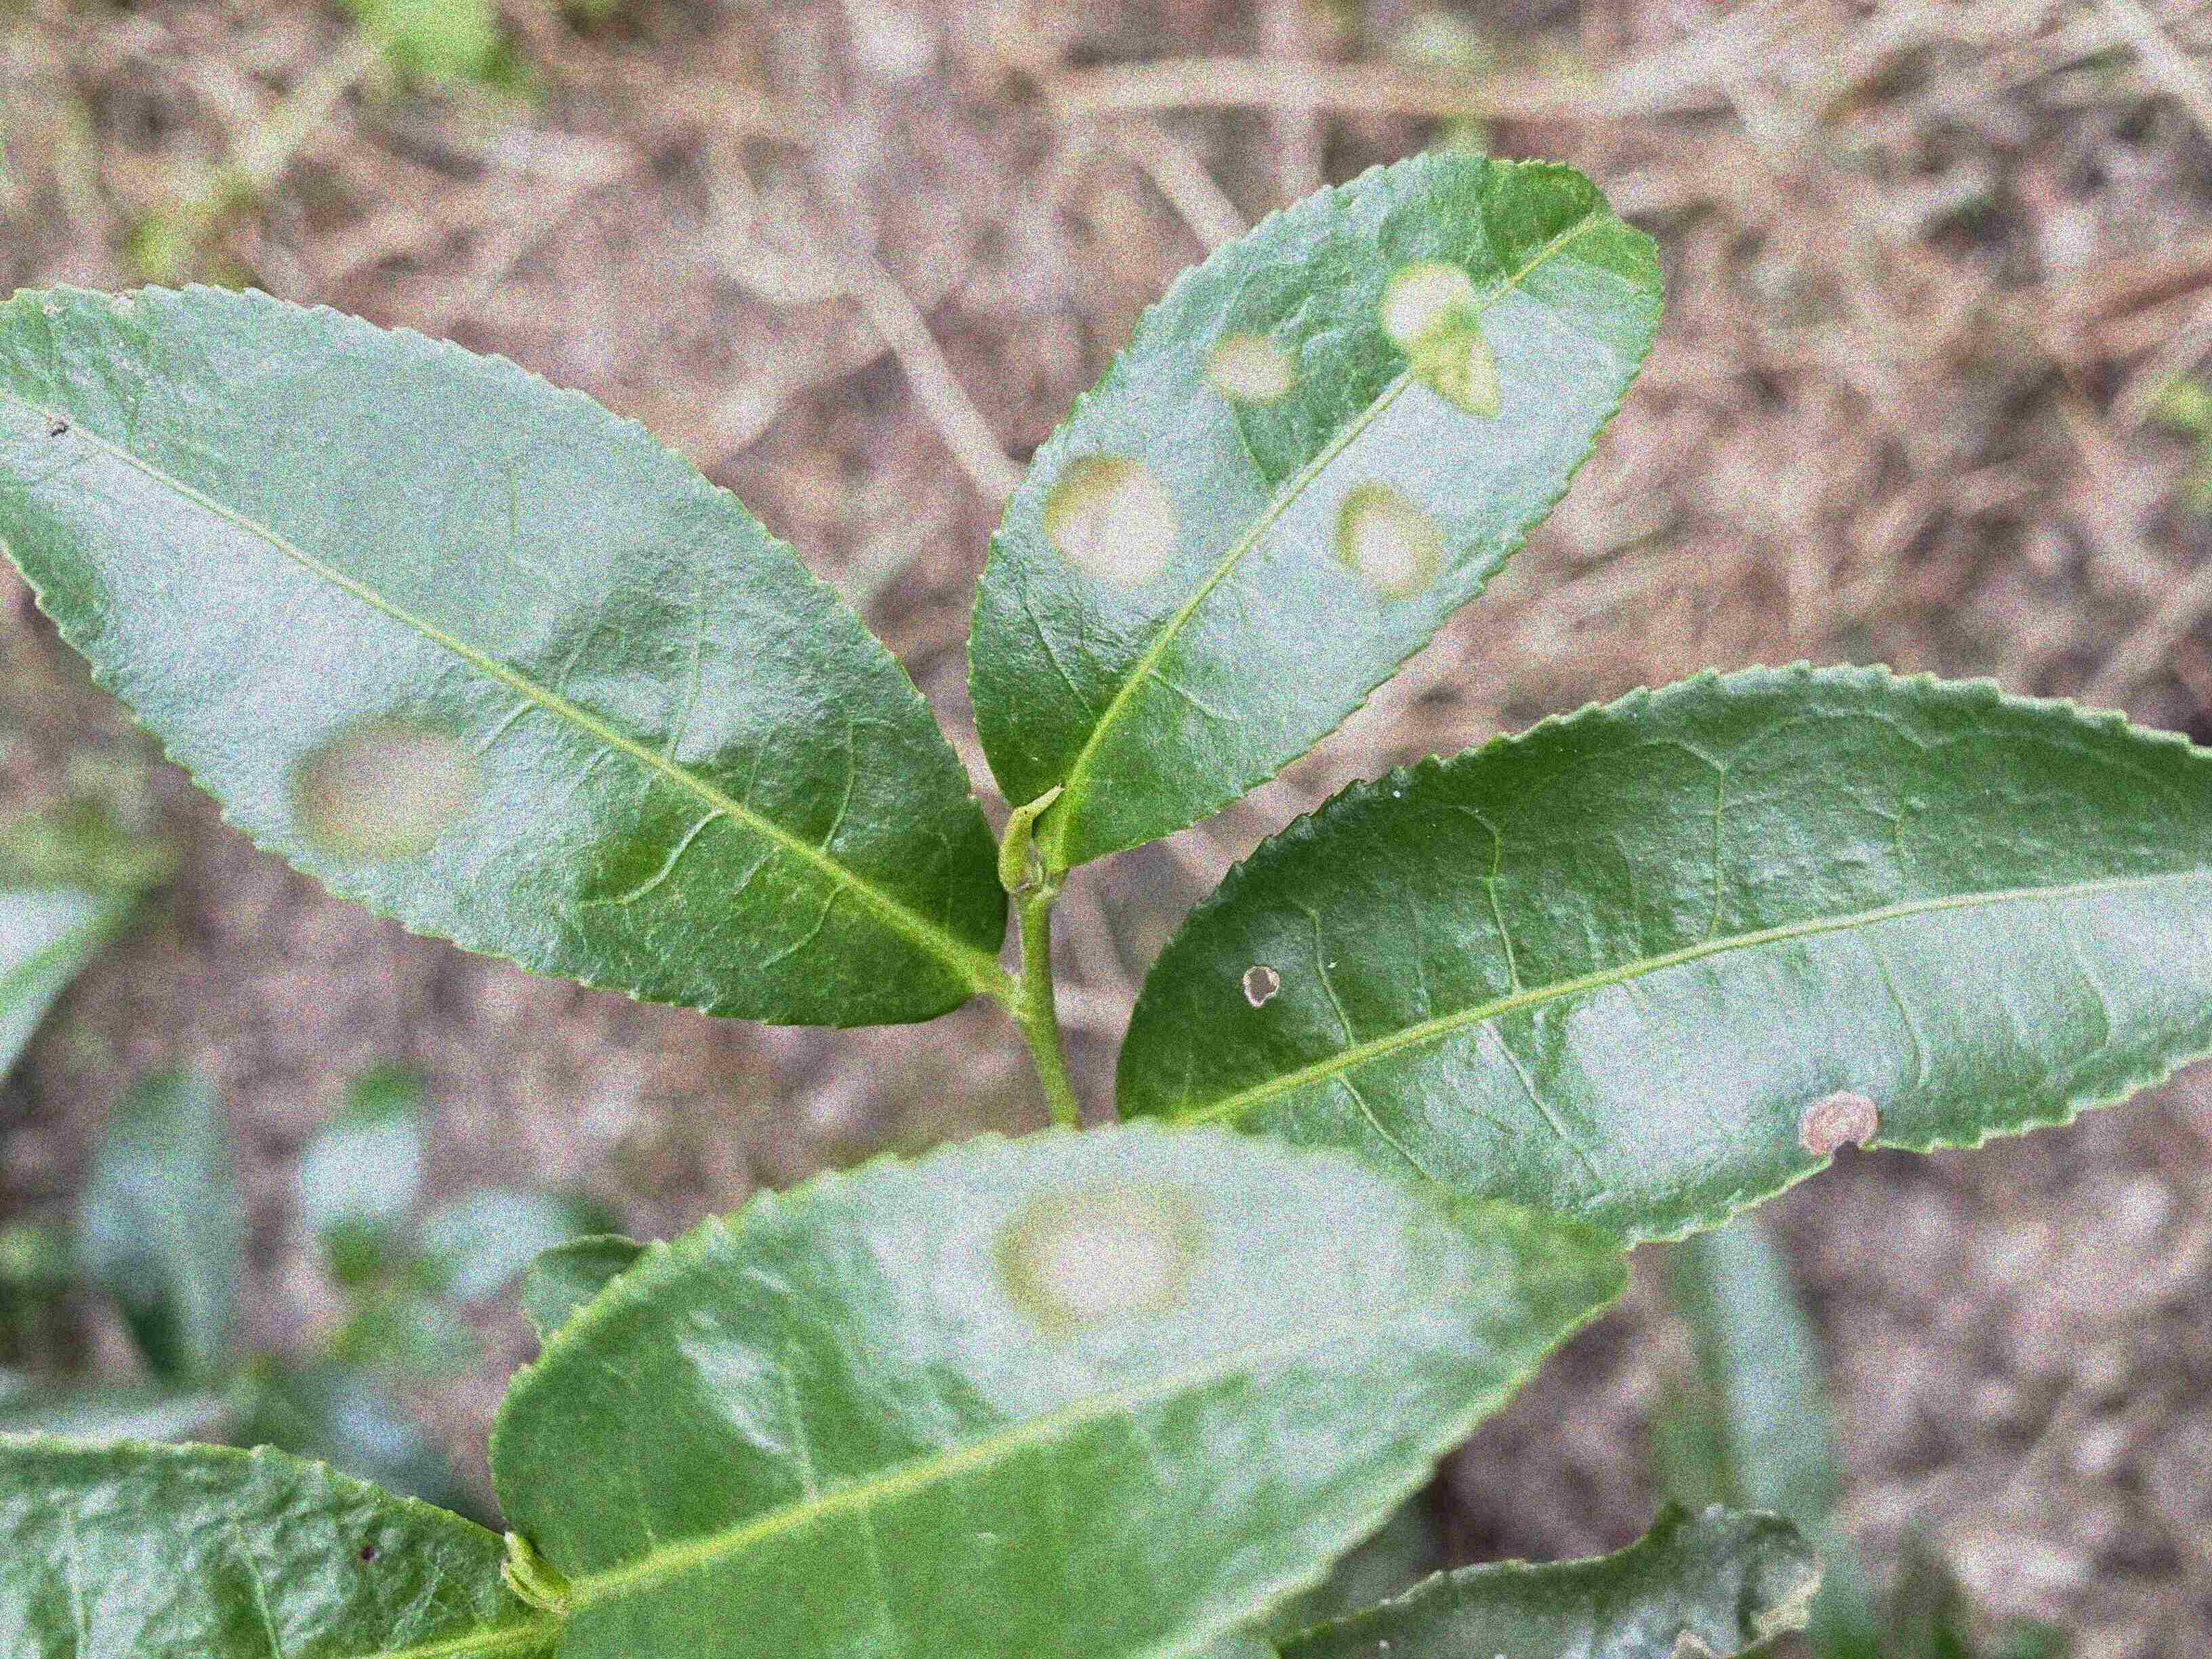chabing_high: (967, 148, 1667, 856)
chabing_low: (2, 282, 1010, 1030), (486, 1112, 1632, 1657)
tanju_low: (1118, 655, 2210, 1251)
